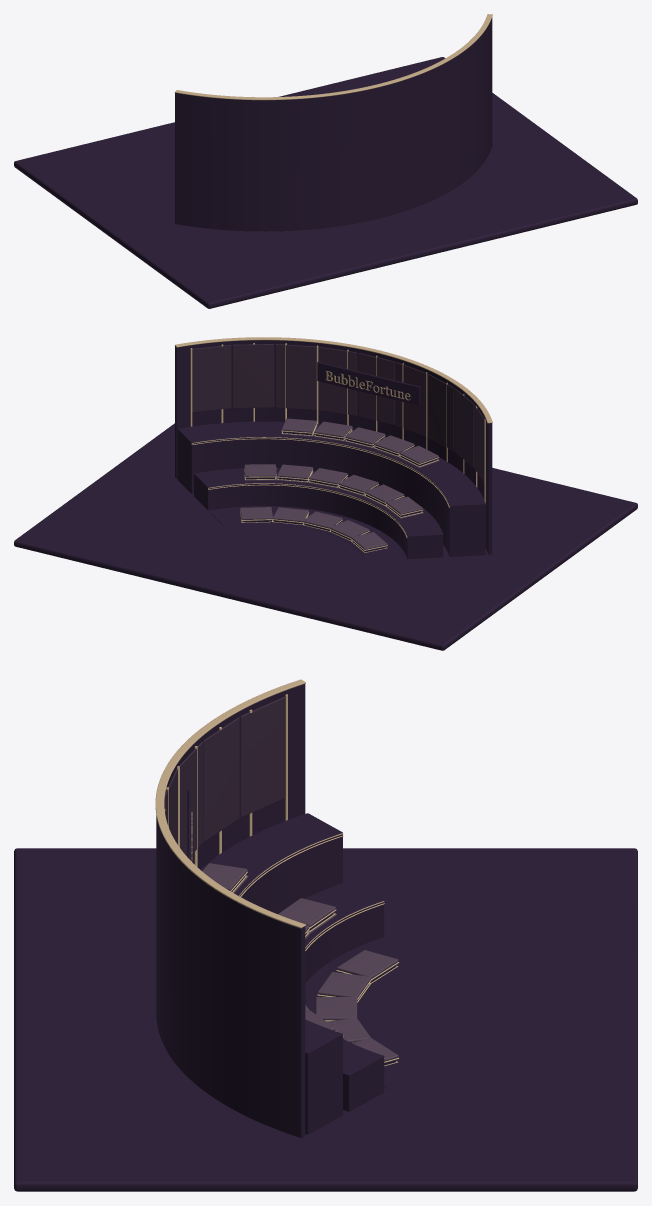
The model's file is BF_DisplayStage_16_v007.glb.
3 views of the same model, one above another, from view 1: azimuth 30°, elevation 25°; view 2: azimuth 150°, elevation 25°; view 3: azimuth 270°, elevation 25° (orthographic). The views are drawn at different scales.
Parts seen in each view (by area): view 1: Stage_Indigo, Stage_Champagne; view 2: Stage_Indigo, Wall_Inset, Stage_Porcelain, Stage_Champagne; view 3: Stage_Indigo, Wall_Inset, Stage_Porcelain, Stage_Champagne.
Part boxes in pixels (x1=…): Stage_Indigo: x1=14, y1=17, x2=637, y2=308; Stage_Champagne: x1=174, y1=14, x2=492, y2=100; Stage_Indigo: x1=14, y1=340, x2=637, y2=650; Wall_Inset: x1=192, y1=344, x2=485, y2=483; Stage_Porcelain: x1=240, y1=418, x2=439, y2=549; Stage_Champagne: x1=175, y1=337, x2=492, y2=552; Stage_Indigo: x1=14, y1=684, x2=637, y2=1191; Wall_Inset: x1=164, y1=696, x2=285, y2=856; Stage_Porcelain: x1=202, y1=863, x2=398, y2=1061; Stage_Champagne: x1=155, y1=679, x2=398, y2=1065.
Size of the model in its own units: 28 by 8.63 by 22.
